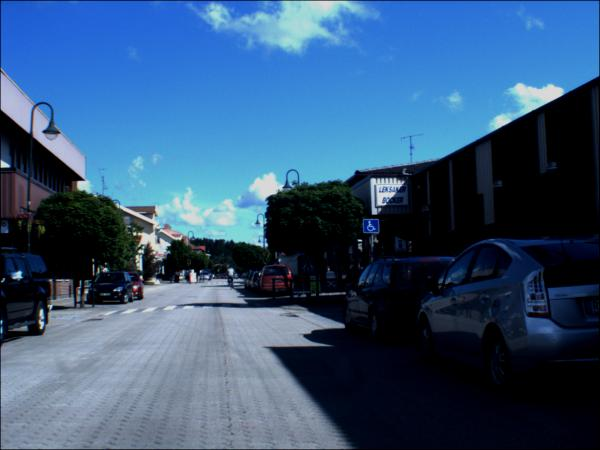PEDESTRIAN_CROSSING: (301, 257, 319, 276)
